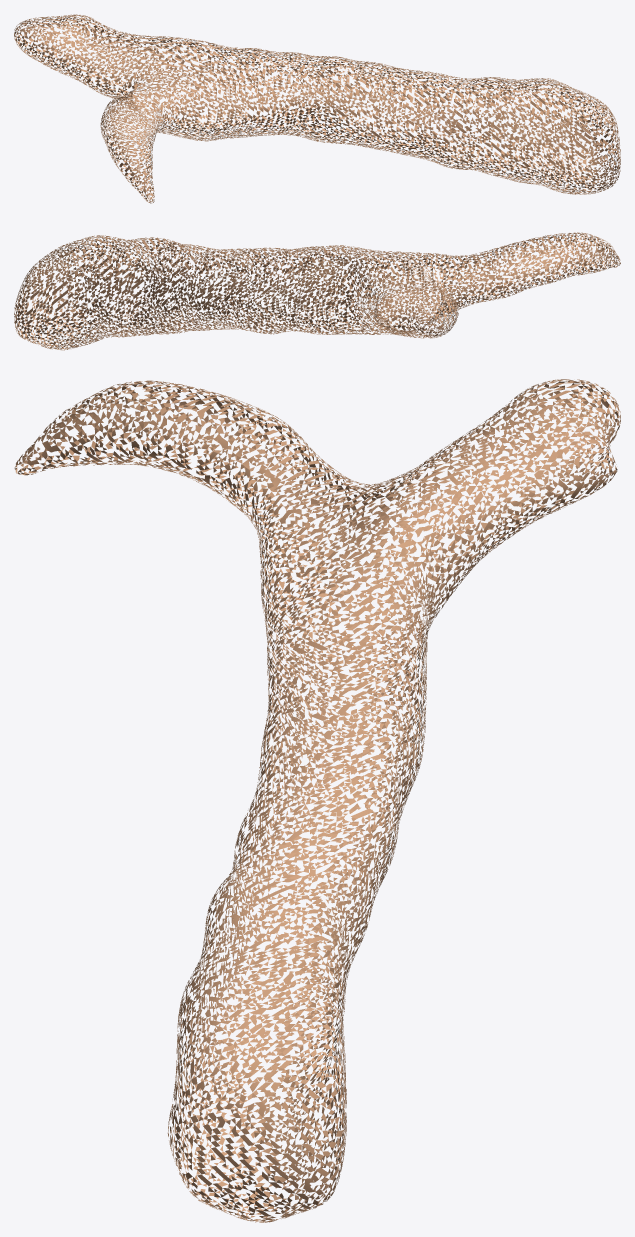
Rendered from morph_005.glb.
The picture shows the model from 3 angles, top to bottom: view 1: azimuth 30°, elevation 25°; view 2: azimuth 150°, elevation 25°; view 3: azimuth 270°, elevation 25°; orthographic projection. The views are drawn at different scales.
Bounding box in the file's own units: 128 × 50.54 × 67.11.
